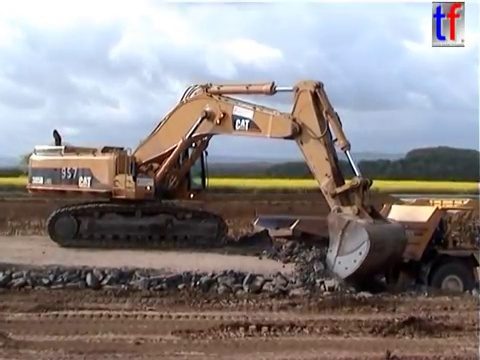excavator: (23, 76, 407, 293)
truck: (248, 194, 480, 315)
